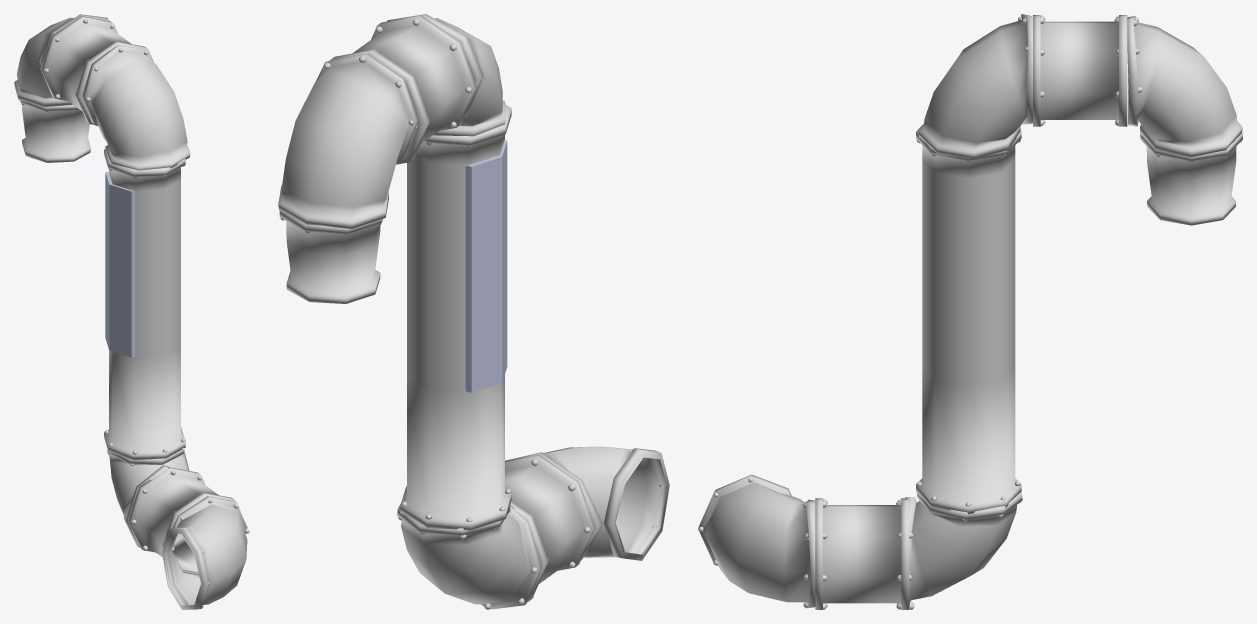
File: Pipes.fbx
3 views of the same model, side by side, from view 1: azimuth 30°, elevation 25°; view 2: azimuth 150°, elevation 25°; view 3: azimuth 270°, elevation 25° (orthographic). The views are drawn at different scales.
Parts seen in each view (by area): view 1: VerticalLongPipe.004, Glass.002; view 2: VerticalLongPipe.004, Glass.002; view 3: VerticalLongPipe.004.
Boxes of the visible parts, x1,y1,x2,y2 form: VerticalLongPipe.004: (14,14,249,609); Glass.002: (105,171,135,357); VerticalLongPipe.004: (278,14,669,609); Glass.002: (465,140,507,392); VerticalLongPipe.004: (698,14,1242,609).
Bounding box in the file's own units: 203 × 992 × 829.
